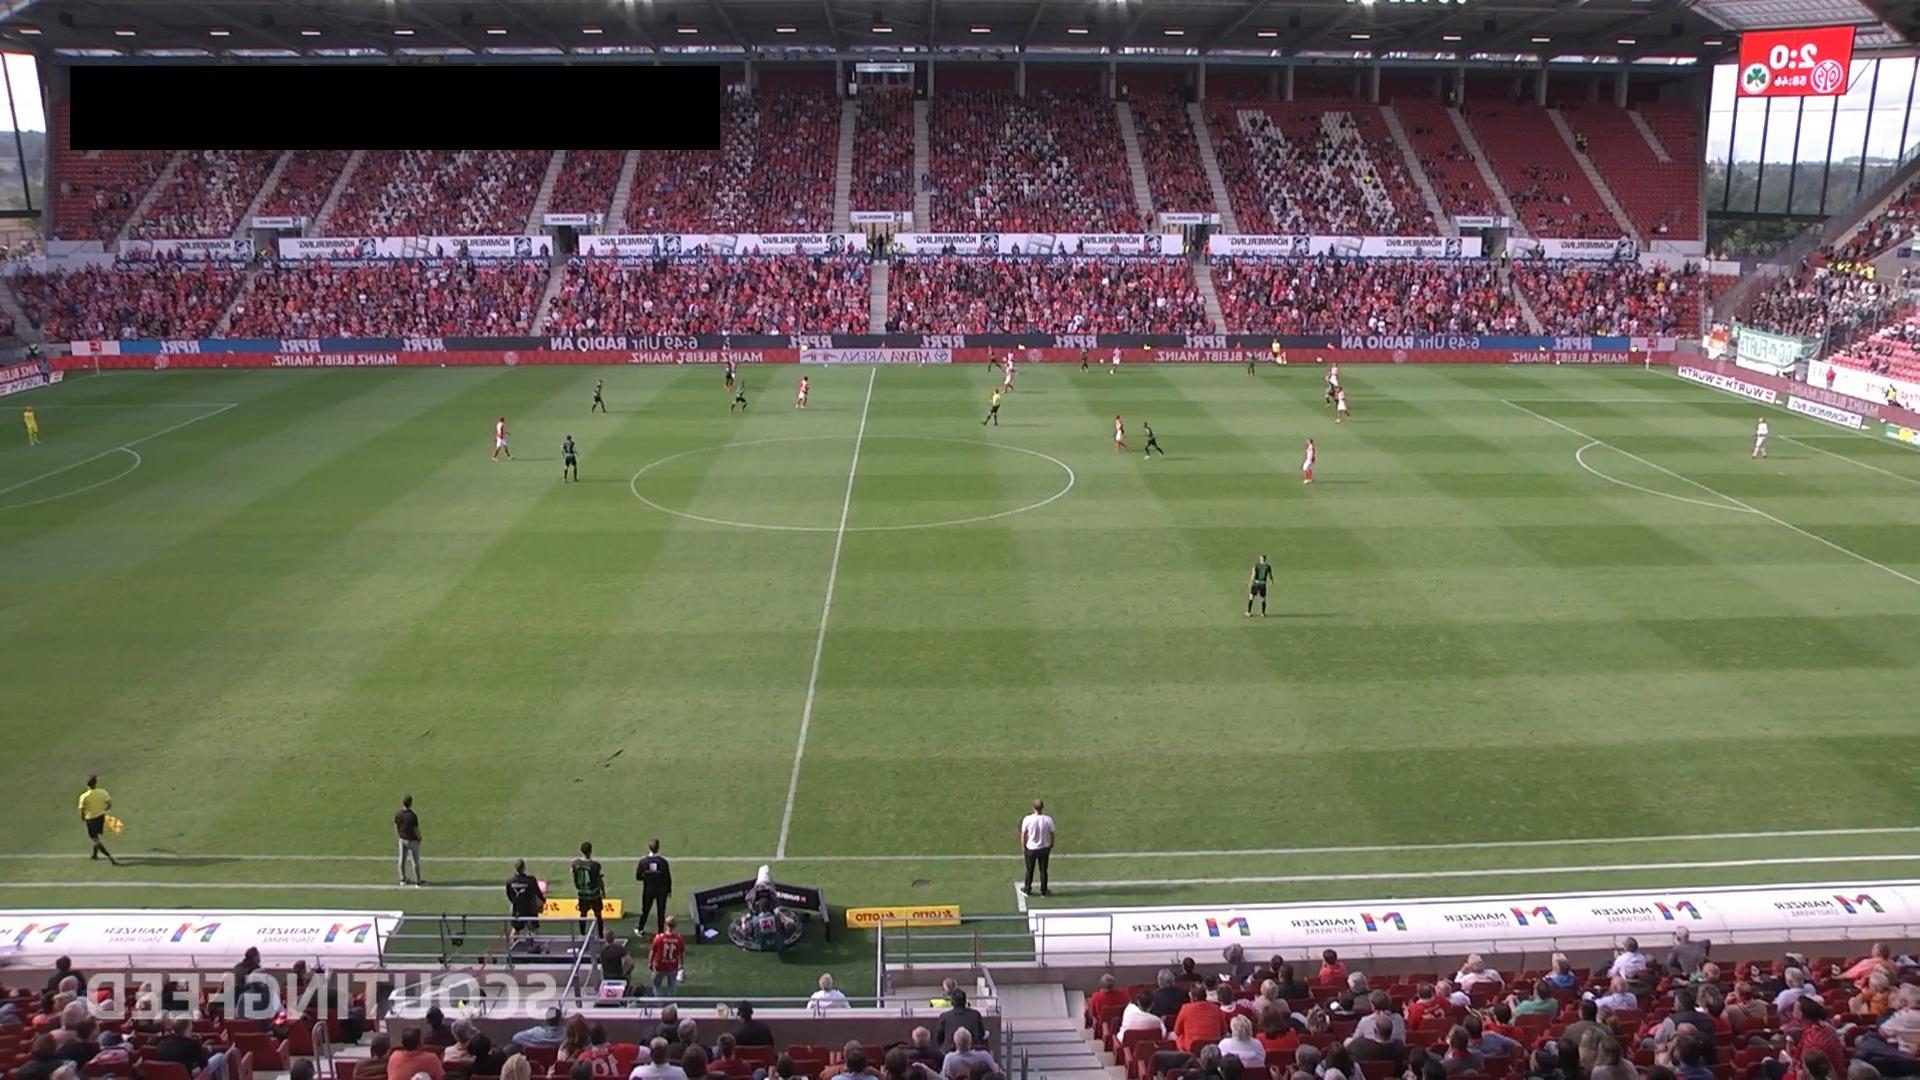ball: (920, 358, 926, 365)
keeper: (22, 405, 41, 447), (1750, 415, 1768, 459)
player: (1244, 553, 1273, 618), (492, 416, 516, 462), (561, 434, 579, 483), (1142, 421, 1164, 460), (1301, 437, 1315, 483), (1335, 387, 1351, 425), (794, 374, 811, 409), (729, 380, 747, 412), (590, 379, 605, 413), (1113, 414, 1127, 449), (986, 344, 1002, 373), (1109, 345, 1124, 374), (1323, 375, 1335, 407), (1003, 363, 1015, 391), (1079, 343, 1090, 371), (1006, 347, 1017, 375), (1329, 362, 1340, 388), (729, 358, 739, 383), (1247, 349, 1256, 376), (725, 361, 733, 390)
referee: (981, 389, 1001, 426), (1271, 337, 1284, 365)
